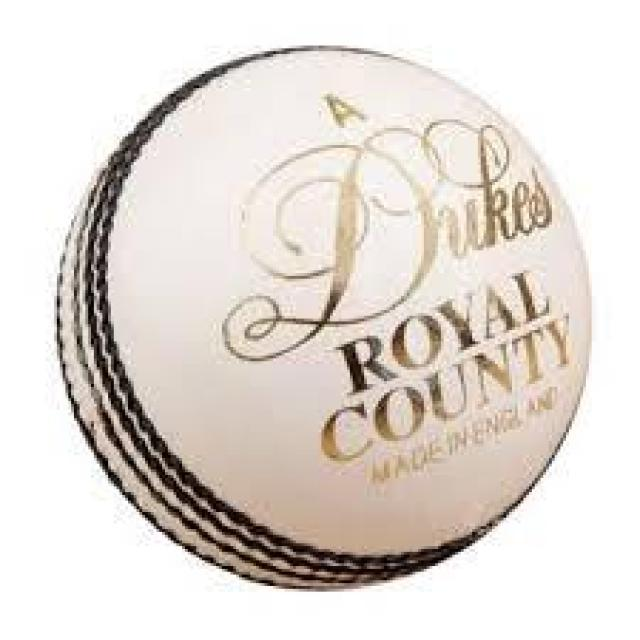ball: (60, 48, 597, 589)
